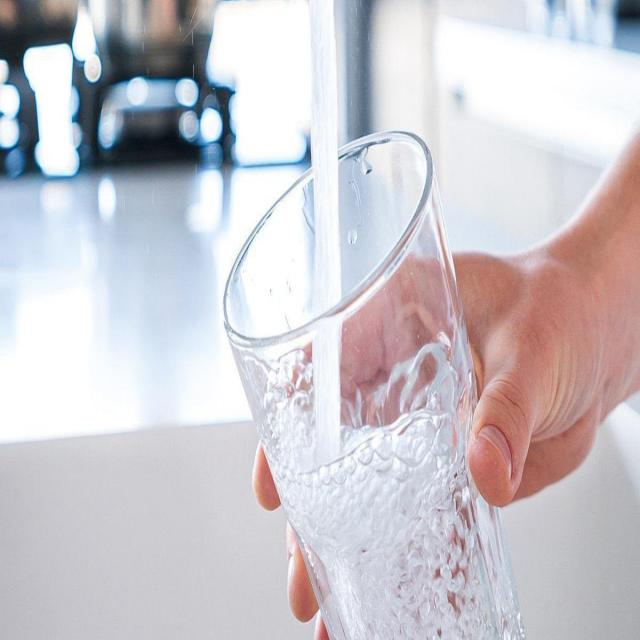glass-normal: (224, 128, 529, 639)
